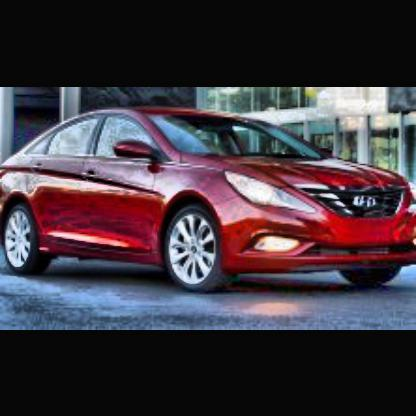Hyundai Sonata Sedan 2012: (4, 108, 416, 302)
